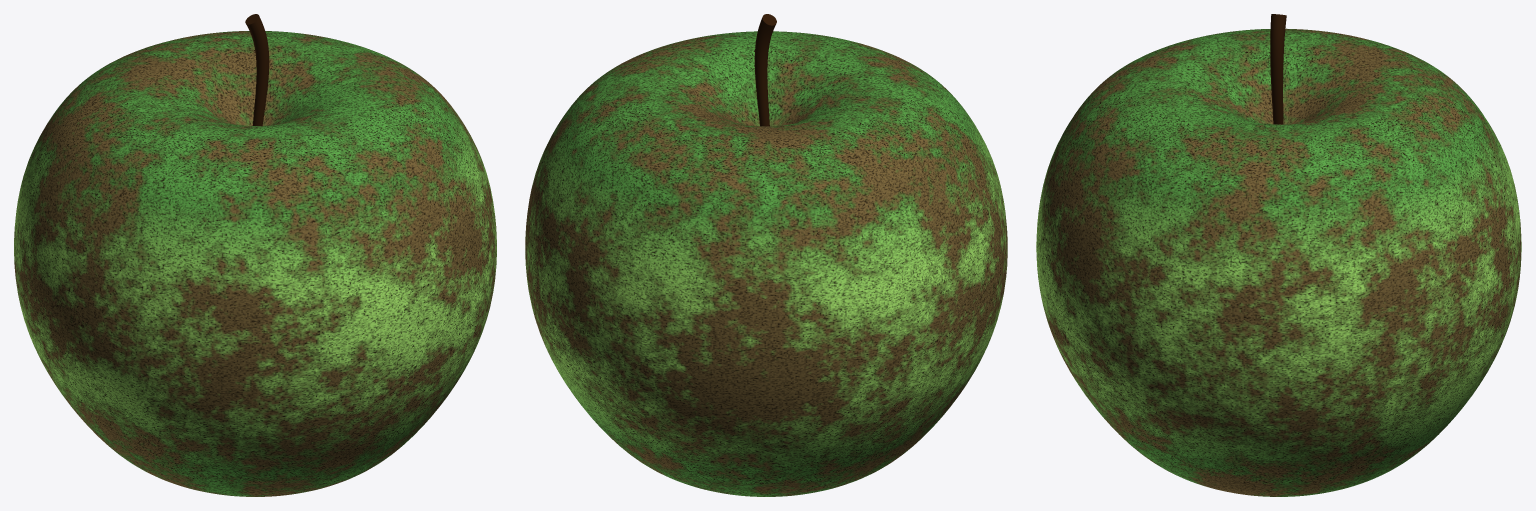
The model's file is 133_manzana_00.glb.
3 renders of one model, left to right at view 1: azimuth 30°, elevation 25°; view 2: azimuth 150°, elevation 25°; view 3: azimuth 270°, elevation 25°, orthographic.
Visible parts, largest first — view 1: Manzana; view 2: Manzana; view 3: Manzana.
Part boxes in pixels (bbox=[...]): Manzana: bbox=[14, 14, 496, 496]; Manzana: bbox=[525, 14, 1007, 496]; Manzana: bbox=[1036, 14, 1521, 496].
Bounding box in the file's own units: 0.0799 × 0.0808 × 0.0799.
Materials: 2 (2 with a texture image).
